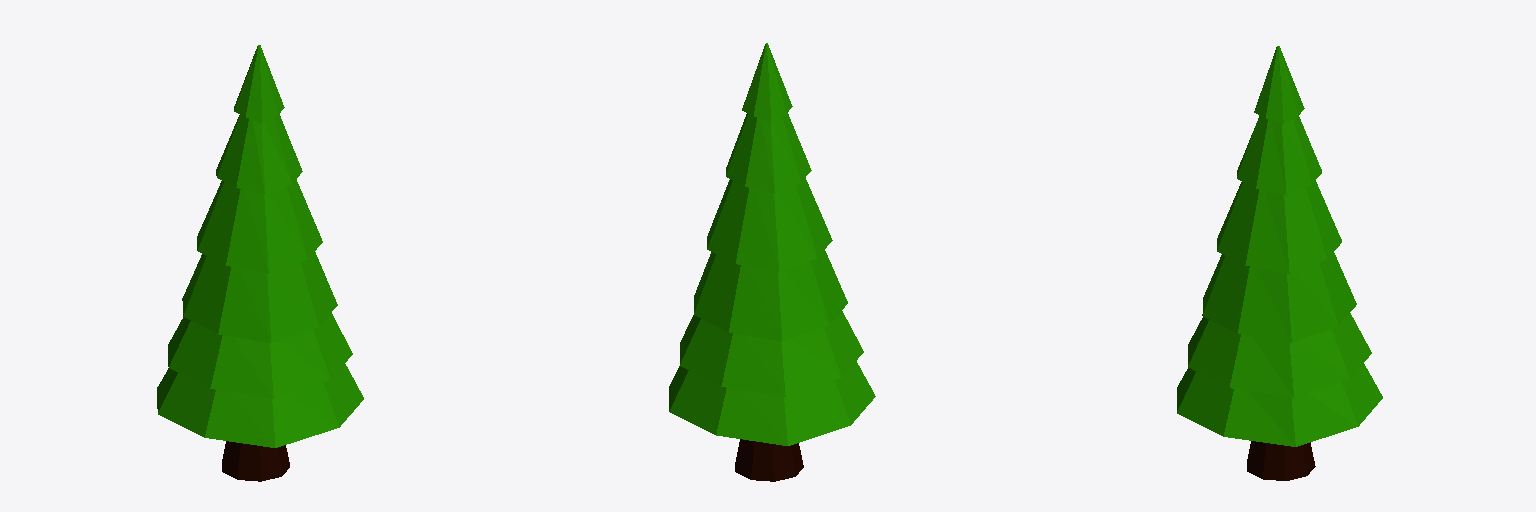
The model's file is Lowpoly_tree_sample.obj.
The picture shows the model from 3 angles: view 1: azimuth 30°, elevation 25°; view 2: azimuth 150°, elevation 25°; view 3: azimuth 270°, elevation 25°; orthographic projection.
Parts seen in each view (by area): view 1: Cylinder; view 2: Cylinder; view 3: Cylinder.
Boxes of the visible parts, <box> form: Cylinder: <box>157,45,363,481</box>; Cylinder: <box>669,43,875,481</box>; Cylinder: <box>1177,46,1382,480</box>.
Size of the model in its own units: 2.31 by 5.12 by 2.28.